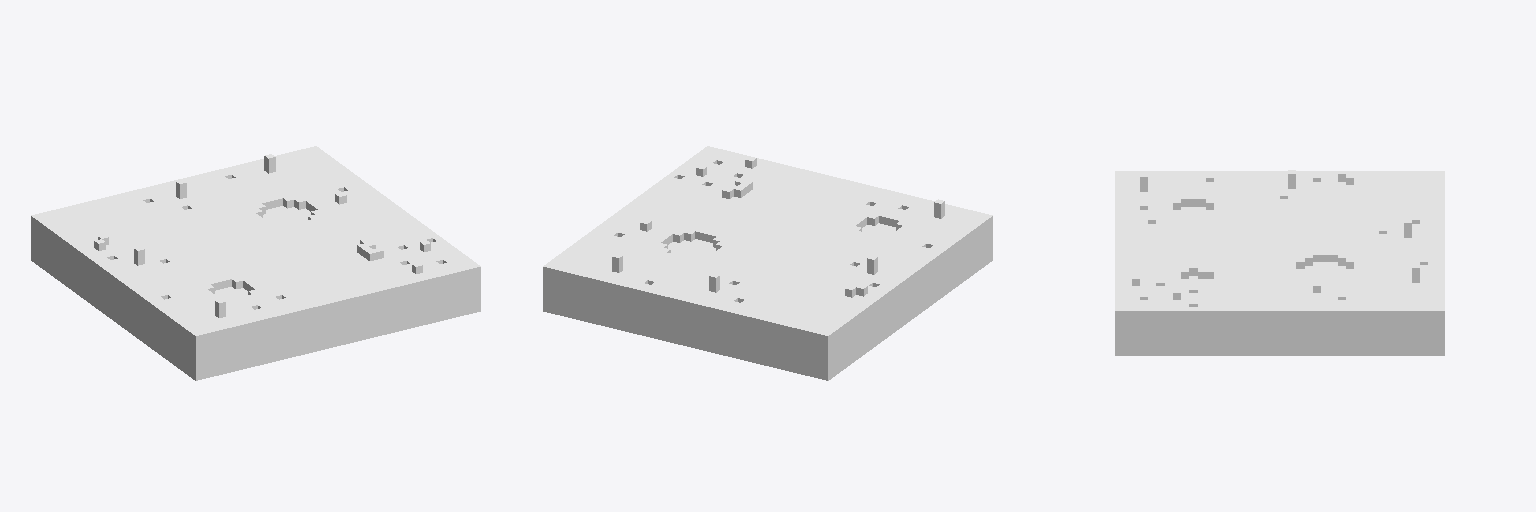
File: SurfaceTile2.obj
3 renders of one model, left to right at view 1: azimuth 30°, elevation 25°; view 2: azimuth 150°, elevation 25°; view 3: azimuth 270°, elevation 25°, orthographic.
Visible parts, largest first — view 1: object 1; view 2: object 1; view 3: object 1.
Boxes of the visible parts, <box> form: object 1: <box>31,146,480,380</box>; object 1: <box>543,146,992,380</box>; object 1: <box>1115,170,1444,355</box>.
Bounding box in the file's own units: 4 × 0.8 × 4.